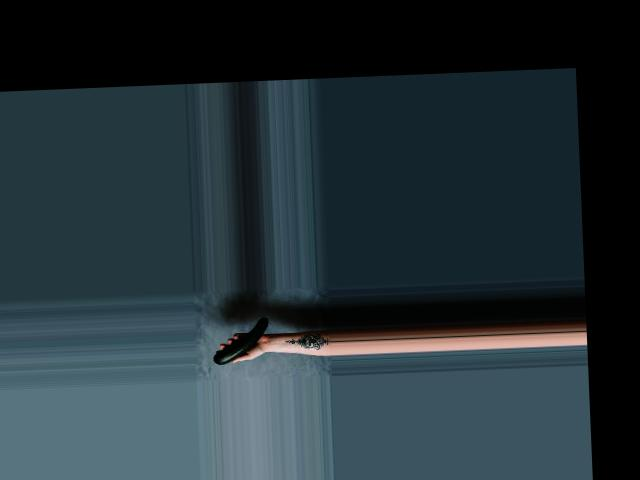cucumber: (211, 317, 269, 364)
